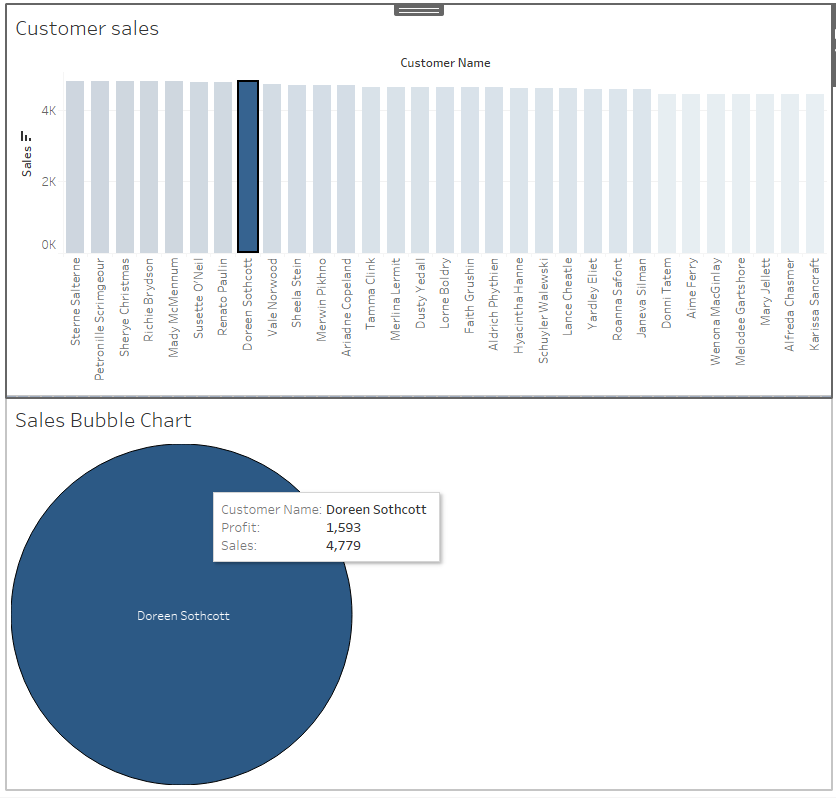

The dashboard page shown, as its layout file describes it:
{"tool":"tableau","page":{"name":"Dashboard","canvas":[1000,800],"ordinal":0},"visuals":[{"type":"worksheet","title":"Customer sales","mark":"Automatic","rows":["Sales"],"cols":["Customer Name"],"box":[8,8,824,392]},{"type":"legend","title":"Customer sales","param":"[federated.1gzonxl0sgtw5r1786w4a0gja593].[sum:Sales:qk]","box":[832,8,160,65]},{"type":"legend","title":"Sales Bubble Chart","param":"[federated.1gzonxl0sgtw5r1786w4a0gja593].[sum:Calculation_761671355322720256:qk]","box":[832,73,160,65]},{"type":"worksheet","title":"Sales Bubble Chart","mark":"Circle","box":[8,400,824,392]}]}

Visuals, with their boxes on the page's 1000x800 design canvas (x1, y1, x2, y2). These are canvas units, not pixel positions in the 836x798 screenshot, which may show the page scaled, cropped or inside an application window:
"Customer sales" worksheet: <bbox>8, 8, 832, 400</bbox>
"Customer sales" legend: <bbox>832, 8, 992, 73</bbox>
"Sales Bubble Chart" legend: <bbox>832, 73, 992, 138</bbox>
"Sales Bubble Chart" worksheet (Circle marks): <bbox>8, 400, 832, 792</bbox>
